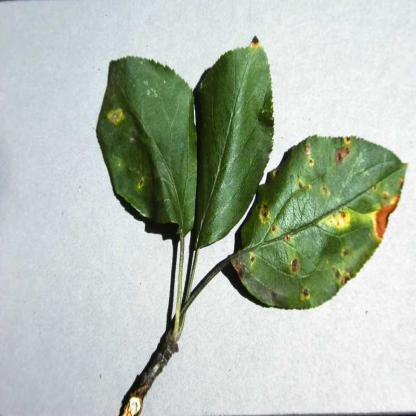Apple Scab Leaf: (233, 121, 416, 318), (189, 23, 285, 264), (96, 47, 204, 243)
